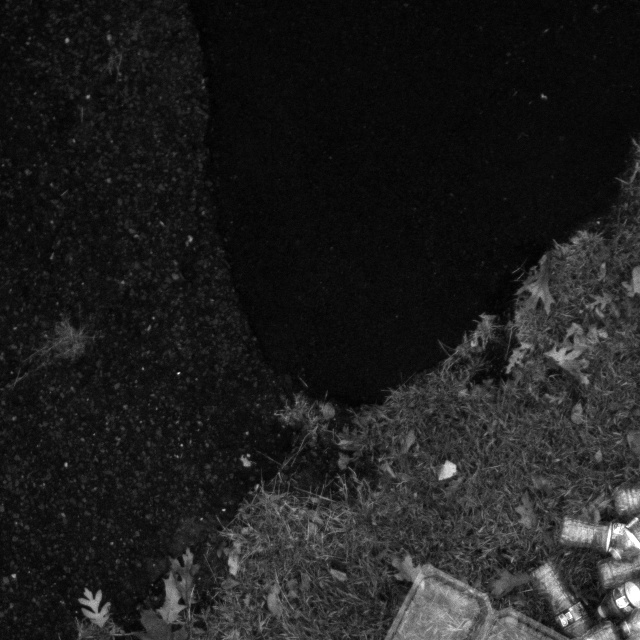bottle: (526, 558, 587, 640), (559, 519, 640, 570), (587, 531, 640, 592)
container: (363, 559, 558, 640)
